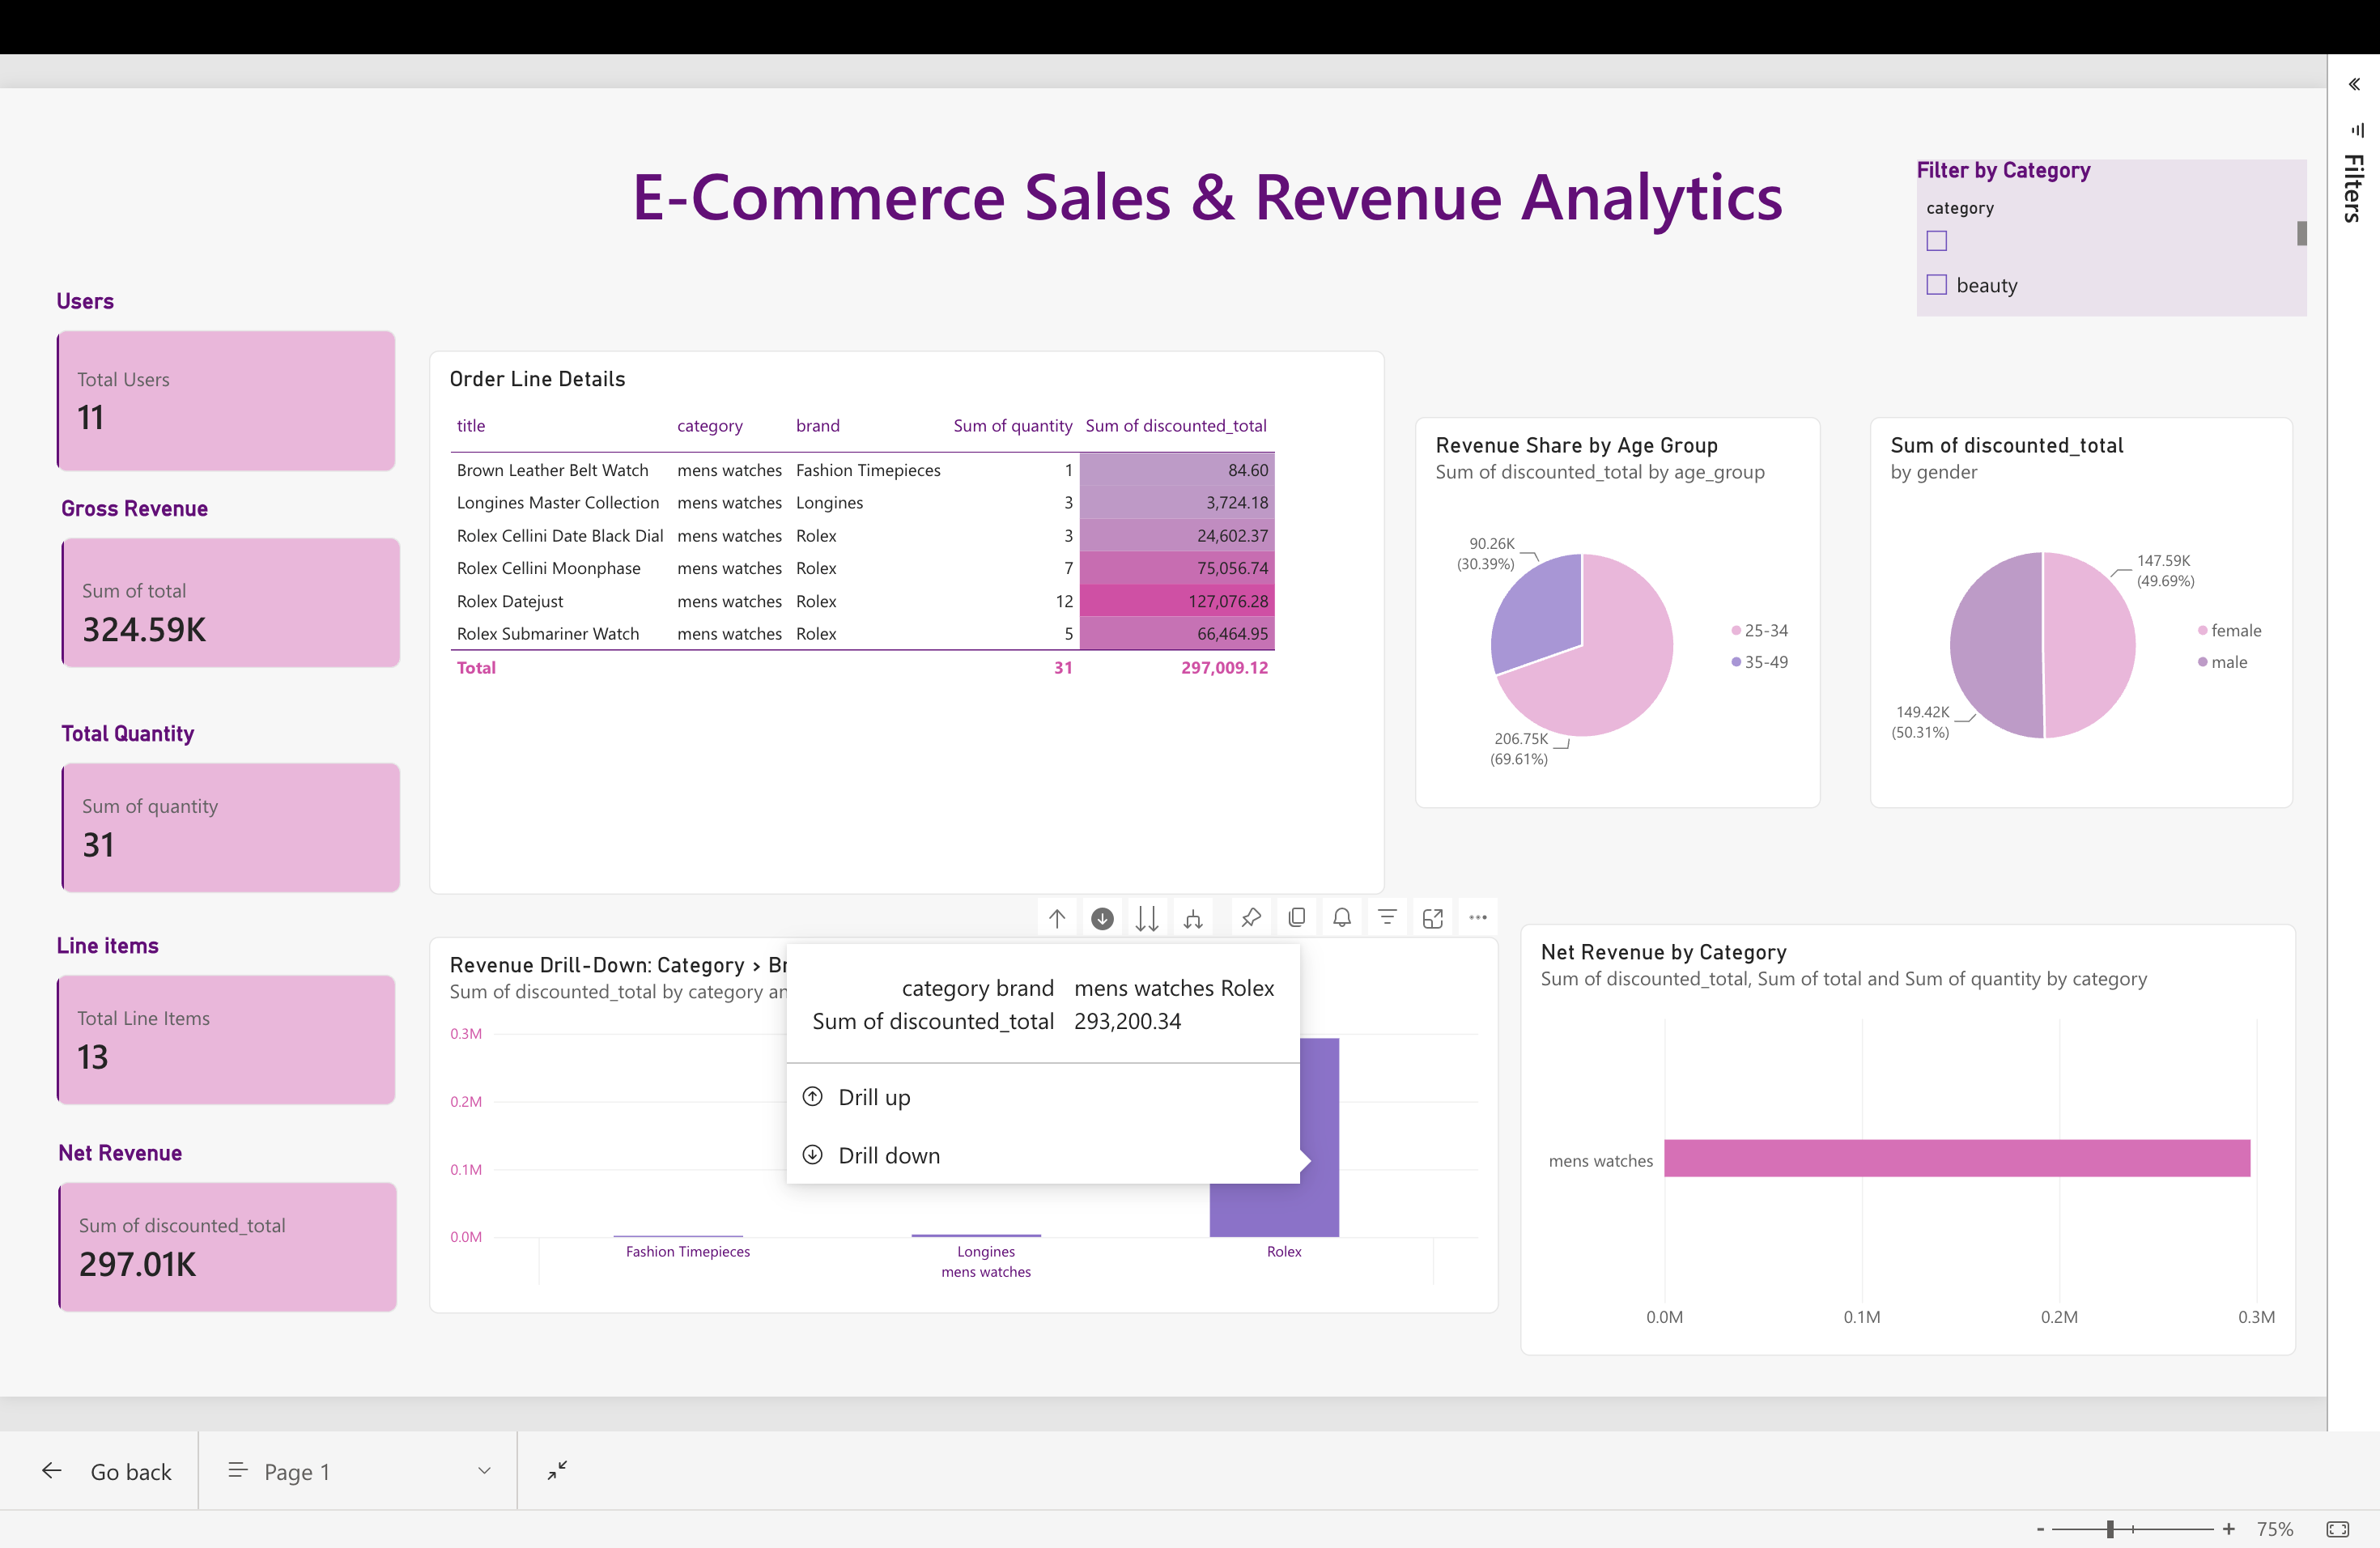

The dashboard page shown, as its layout file describes it:
{"tool":"powerbi","page":{"name":"Page 1","canvas":[1920,1080],"ordinal":0},"visuals":[{"type":"cardVisual","title":"Net Revenue","fields":{"Data":["Sum(powerbi_dashboard_data.discounted_total)"]},"box":[47.7,869.4,280.3,141.1],"z":0},{"type":"cardVisual","title":"Gross Revenue","fields":{"Data":["Sum(powerbi_dashboard_data.total)"]},"box":[50.4,337.5,280.3,141.1],"z":1000},{"type":"cardVisual","title":"Total Quantity","fields":{"Data":["Sum(powerbi_dashboard_data.quantity)"]},"box":[50.4,523.6,280.3,141.1],"z":2000},{"type":"cardVisual","title":"Line items","fields":{"Data":["powerbi_dashboard_data.Total Line Items"]},"box":[46.5,698.2,280.3,141.1],"z":3000},{"type":"slicer","title":"Filter by Category","fields":{"Values":["powerbi_dashboard_data.category"]},"box":[1582.5,58.5,322.2,129.7],"z":4000},{"type":"clusteredBarChart","title":"Net Revenue by Category","fields":{"Category":["powerbi_dashboard_data.category"],"Y":["Sum(powerbi_dashboard_data.discounted_total)"]},"box":[1254.9,689.4,640.6,356.5],"z":5000},{"type":"clusteredColumnChart","title":"Revenue Drill-Down: Category > Brand > Product","fields":{"Category":["powerbi_dashboard_data.category","powerbi_dashboard_data.brand","powerbi_dashboard_data.title"],"Y":["Sum(powerbi_dashboard_data.discounted_total)"]},"box":[354.6,699.7,882.8,310.8],"z":6000},{"type":"pieChart","title":"Revenue Share by Age Group","fields":{"Category":["powerbi_dashboard_data.age_group"],"Y":["Sum(powerbi_dashboard_data.discounted_total)"]},"box":[1167.5,271.9,335,322.8],"z":7000},{"type":"tableEx","title":"Order Line Details","fields":{"Values":["powerbi_dashboard_data.title","powerbi_dashboard_data.category","powerbi_dashboard_data.brand","Sum(powerbi_dashboard_data.quantity)","Sum(powerbi_dashboard_data.discounted_total)"]},"box":[354.4,216,788.9,449.1],"z":8000},{"type":"textbox","box":[440.4,51.2,1105.6,144.4],"z":9000},{"type":"cardVisual","title":"Users","fields":{"Data":["powerbi_dashboard_data.Total Users"]},"box":[46.1,167.5,280,150],"z":10000},{"type":"pieChart","fields":{"Category":["powerbi_dashboard_data.gender"],"Y":["Sum(powerbi_dashboard_data.discounted_total)"]},"box":[1543.8,271.9,349.5,322.8],"z":11000}]}

Visuals, with their boxes on the page's 1920x1080 design canvas (x1, y1, x2, y2). These are canvas units, not pixel positions in the 2380x1548 screenshot, which may show the page scaled, cropped or inside an application window:
"Net Revenue" cardVisual: l=48, t=869, r=328, b=1010
"Gross Revenue" cardVisual: l=50, t=338, r=331, b=479
"Total Quantity" cardVisual: l=50, t=524, r=331, b=665
"Line items" cardVisual: l=46, t=698, r=327, b=839
"Filter by Category" slicer: l=1582, t=58, r=1905, b=188
"Net Revenue by Category" clusteredBarChart: l=1255, t=689, r=1896, b=1046
"Revenue Drill-Down: Category > Brand > Product" clusteredColumnChart: l=355, t=700, r=1237, b=1010
"Revenue Share by Age Group" pieChart: l=1168, t=272, r=1502, b=595
"Order Line Details" tableEx: l=354, t=216, r=1143, b=665
textbox: l=440, t=51, r=1546, b=196
"Users" cardVisual: l=46, t=168, r=326, b=318
pieChart - powerbi_dashboard_data.gender x Sum(powerbi_dashboard_data.discounted_total): l=1544, t=272, r=1893, b=595
